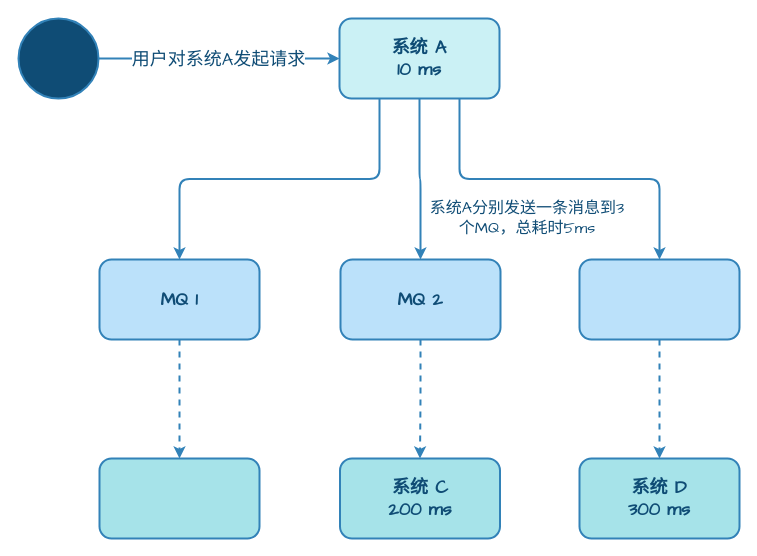
This 757x556 diagram has some shape labels left out. The box of each missing label's shape, as (x1, y1, x2, y2) in pixels:
MQ 3: (578, 258, 740, 340)
用户: (17, 17, 99, 99)
系统 B 100 ms: (98, 457, 260, 539)
